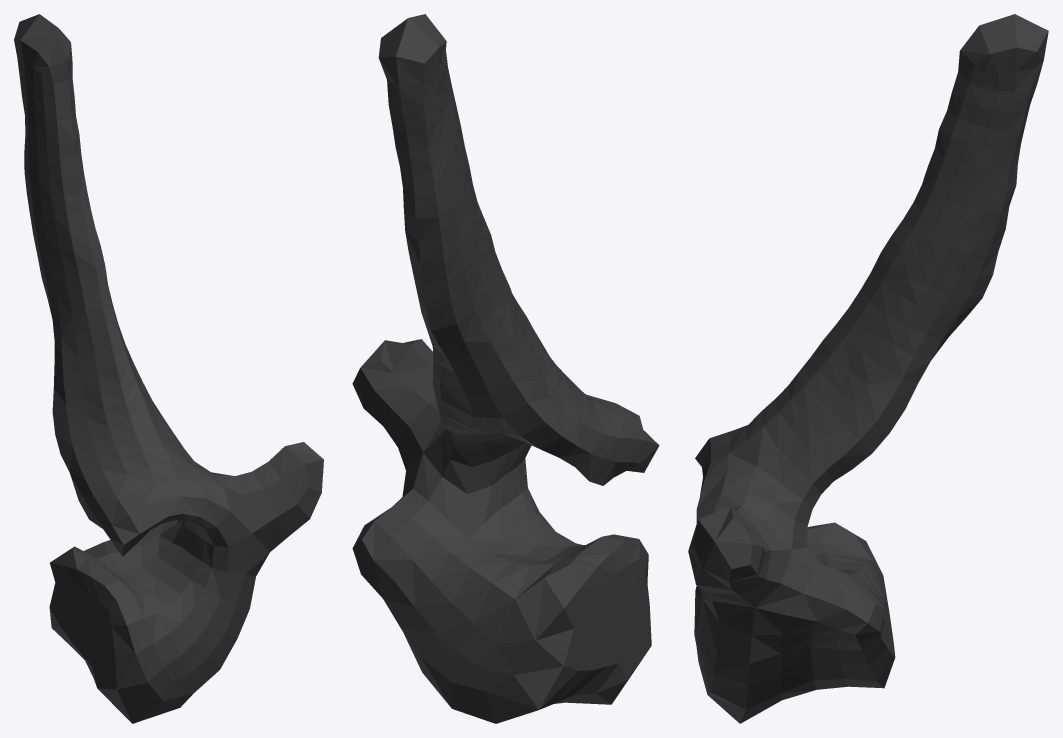
3 views of the same model, side by side, from view 1: azimuth 30°, elevation 25°; view 2: azimuth 150°, elevation 25°; view 3: azimuth 270°, elevation 25° (orthographic). The views are drawn at different scales.
Parts seen in each view (by area): view 1: T6; view 2: T6; view 3: T6.
Part boxes in pixels (x1=…): T6: x1=14, y1=14, x2=323, y2=723; T6: x1=352, y1=14, x2=659, y2=723; T6: x1=688, y1=14, x2=1048, y2=723.
Bounding box in the file's own units: 0.00684 × 0.0186 × 0.0087.
1 material, 1 textured.
